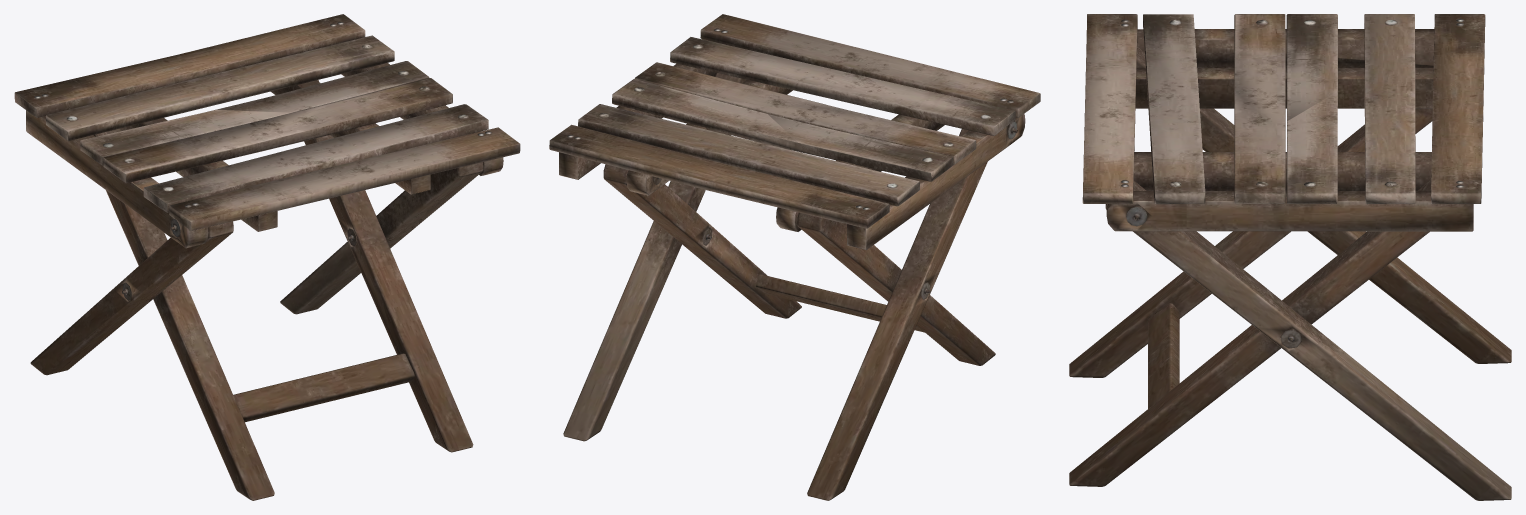
File: folding_wooden_stool.glb
3 views of the same model, side by side, from view 1: azimuth 30°, elevation 25°; view 2: azimuth 150°, elevation 25°; view 3: azimuth 270°, elevation 25° (orthographic). The views are drawn at different scales.
Visible parts, largest first — view 1: folding_wooden_stool; view 2: folding_wooden_stool; view 3: folding_wooden_stool.
Part boxes in pixels (box(x1,y1,x2,y2)): folding_wooden_stool: box(14, 14, 520, 500); folding_wooden_stool: box(549, 14, 1040, 500); folding_wooden_stool: box(1069, 14, 1511, 500).
Bounding box in the file's own units: 0.527 × 0.442 × 0.5471.
1 material, 1 textured.
